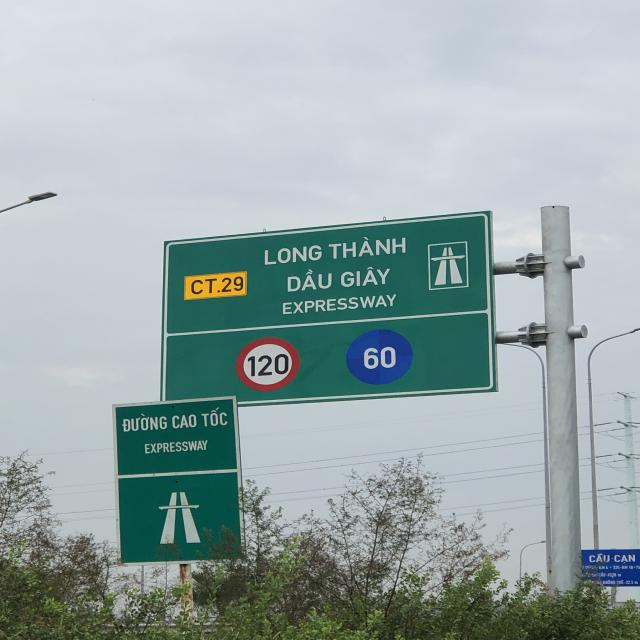Bien bao toc do toi thieu cho phep: (344, 328, 418, 386)
